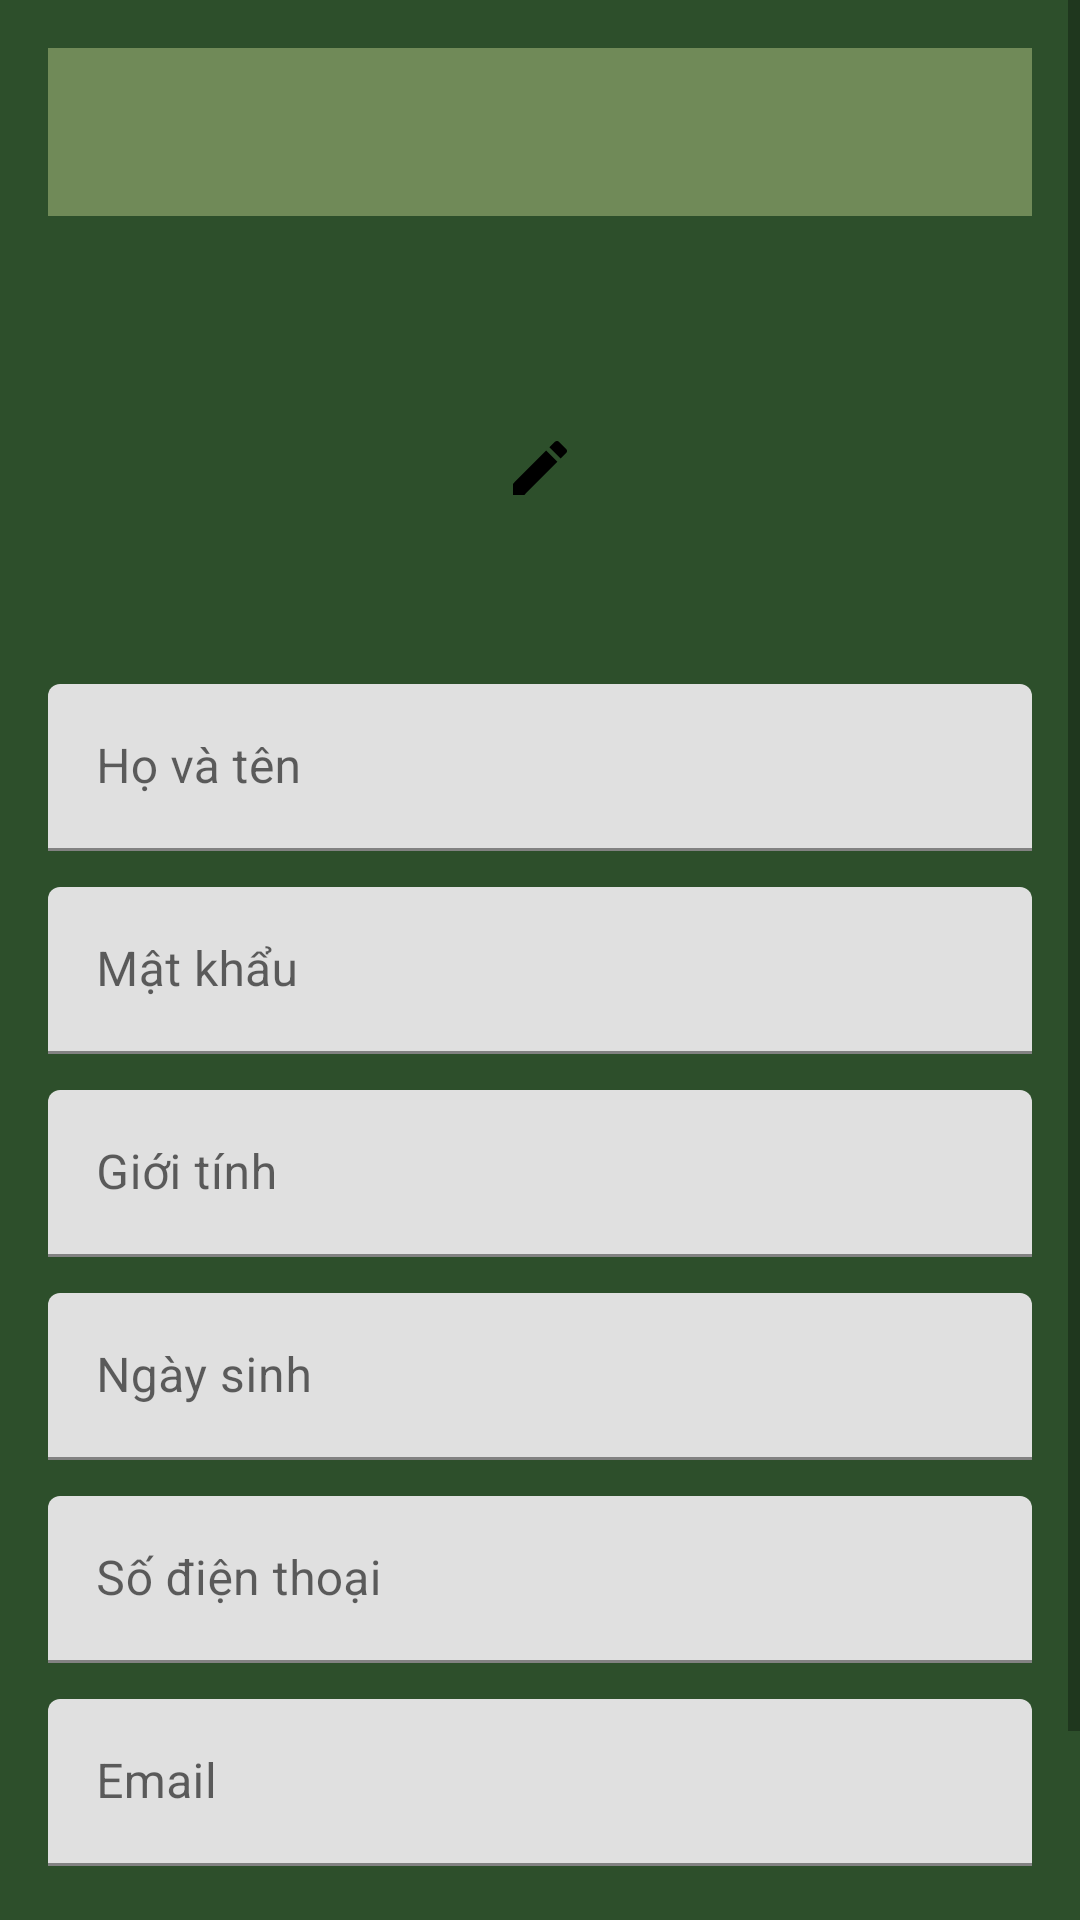

Icons on this 1080x1920 Android screen, each with the point to tap as point (x, y):
edit: point (540, 468)
